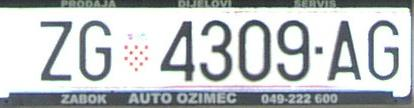-: (314, 45, 324, 56)
0: (238, 20, 271, 82)
3: (200, 20, 231, 82)
4: (160, 20, 196, 82)
9: (277, 20, 310, 82)
A: (329, 20, 362, 82)
G: (78, 20, 112, 81), (367, 20, 400, 81)
Z: (40, 21, 73, 81)
